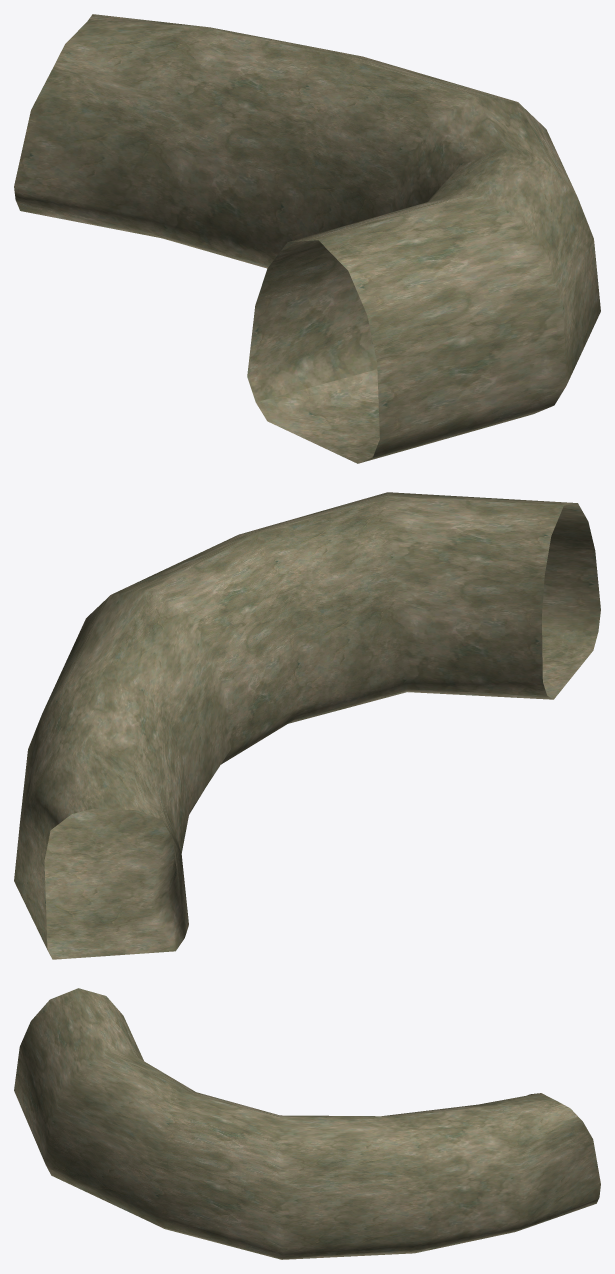
File: OVERHILL_A_01_LINE346.fbx
3 renders of one model, top to bottom at view 1: azimuth 30°, elevation 25°; view 2: azimuth 150°, elevation 25°; view 3: azimuth 270°, elevation 25°, orthographic. The views are drawn at different scales.
Visible parts, largest first — view 1: OVERHILL_A_01_LINE346; view 2: OVERHILL_A_01_LINE346; view 3: OVERHILL_A_01_LINE346.
Boxes of the visible parts, x1,y1,x2,y2 form: OVERHILL_A_01_LINE346: [14, 14, 600, 463]; OVERHILL_A_01_LINE346: [14, 492, 600, 959]; OVERHILL_A_01_LINE346: [14, 988, 600, 1259].
Size of the model in its own units: 68515 by 40485 by 129035.
1 material, 1 textured.
